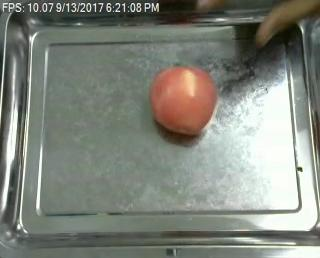apple: (150, 66, 219, 137)
